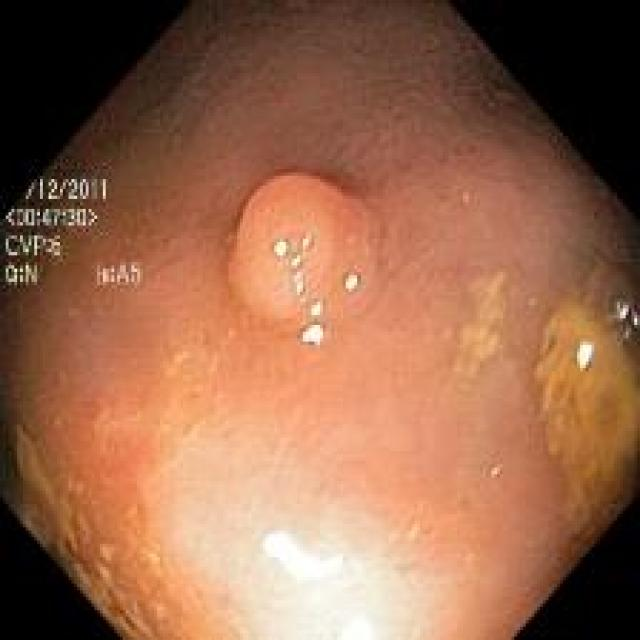Polyps: (535, 305, 640, 541), (229, 174, 378, 329)
